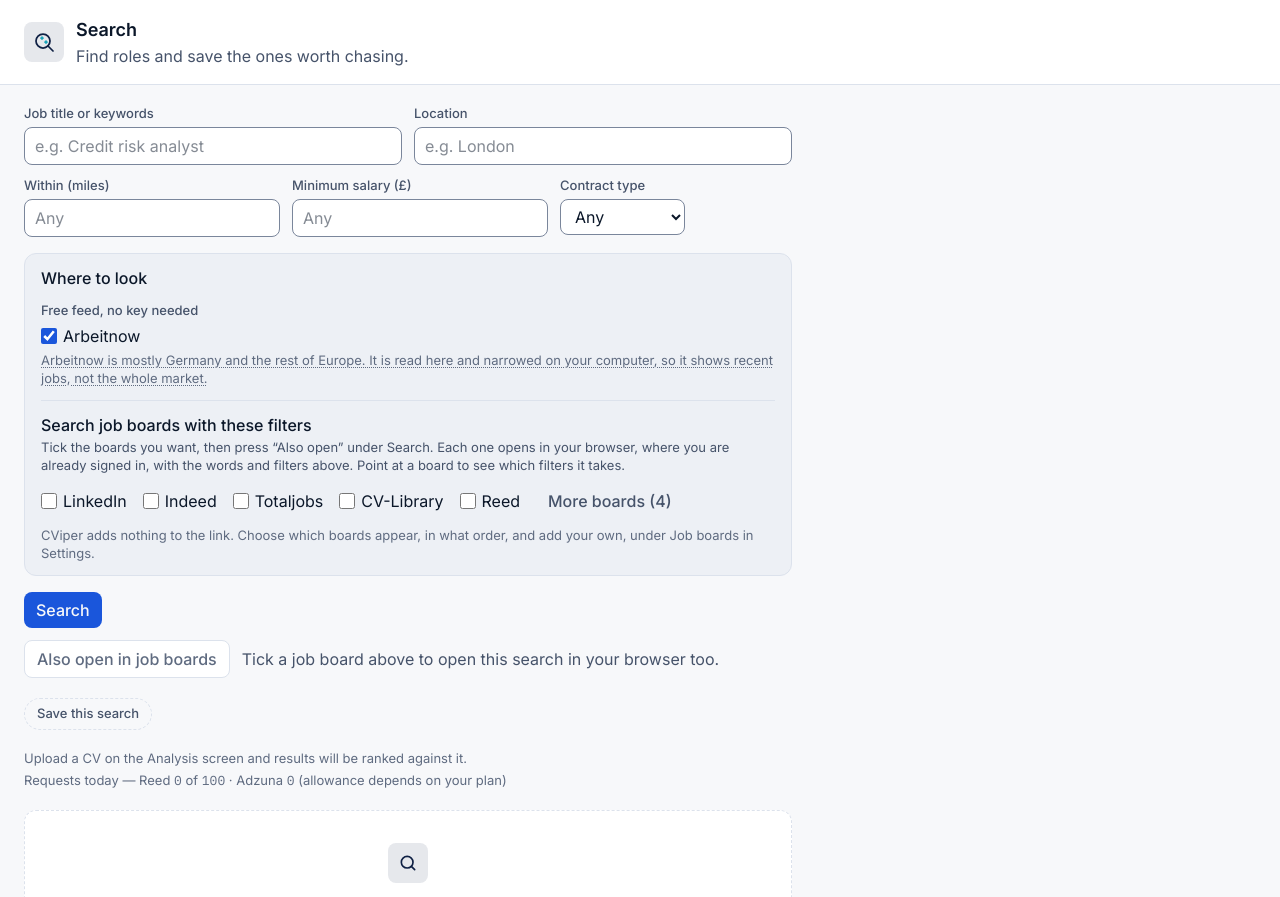
Test case: the reason sits beside the disabled Search button (L-335) › negative (the owner's case, L-336): London, Guardian unticked long ago, no key — no tick button, the reason names Reed
Expected: the element with test id "keyless-bar" is shown, [41,400,775,563]
Type "London" into the field with test id "search-location" at (603, 146), box [414,127,792,165]
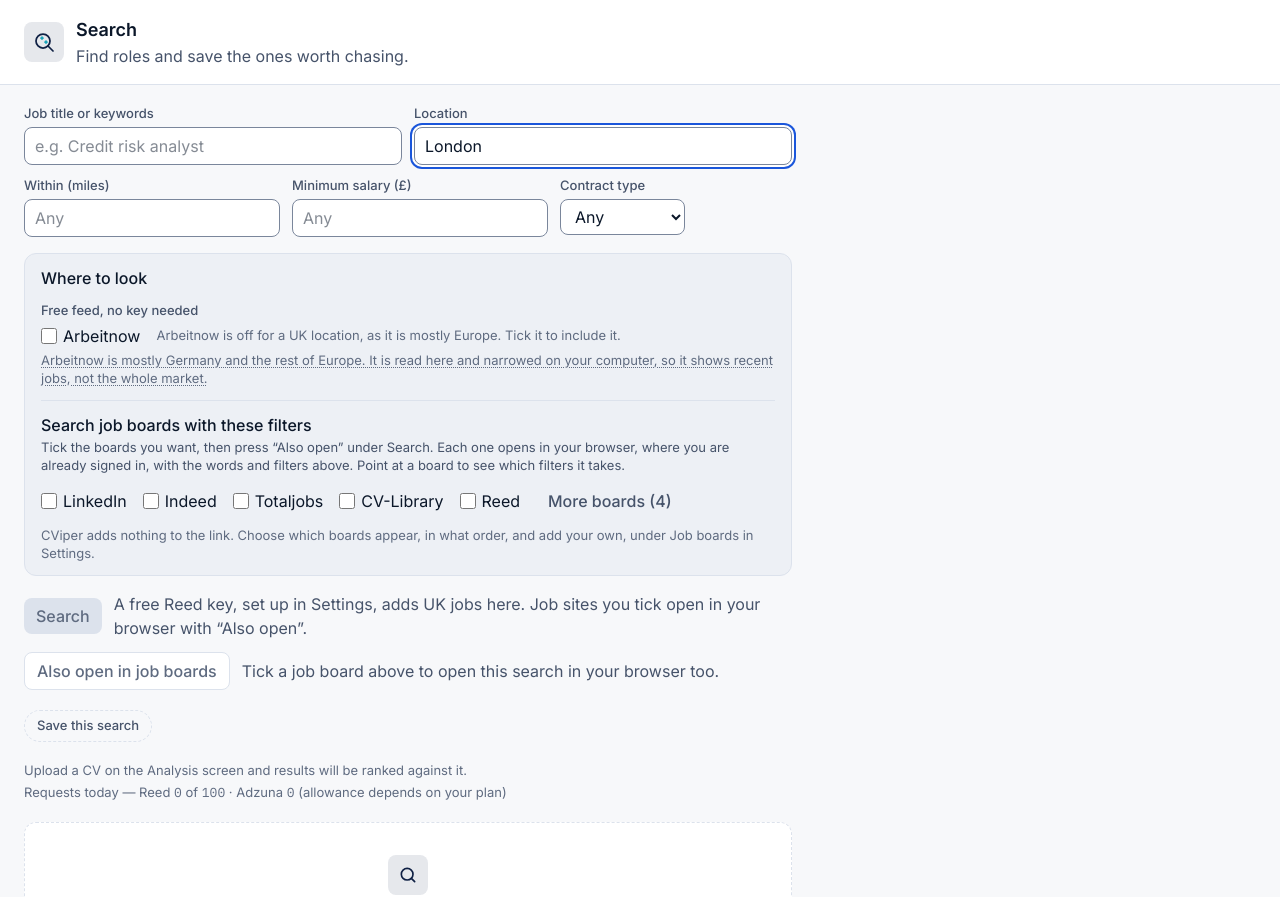
Expected: the button with test id "search-submit" is disabled, [24,598,102,634]
Expected: the text with test id "search-reason" shows "Reed", [114,594,760,638]
Expected: the text with test id "search-reason" shows "Settings", [114,594,760,638]
